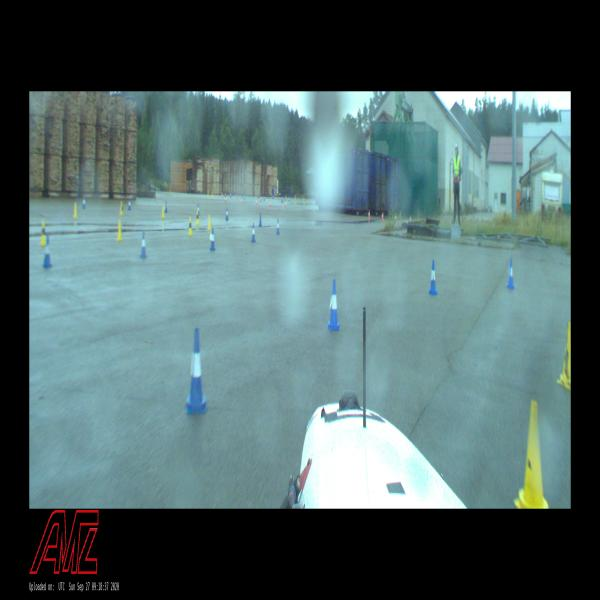blue_cone: (186, 328, 206, 412), (327, 279, 340, 329), (428, 260, 438, 294), (43, 236, 52, 267), (506, 258, 514, 288), (141, 232, 146, 258), (210, 228, 215, 250), (251, 223, 256, 242), (277, 219, 280, 234), (259, 214, 262, 226), (165, 202, 168, 212), (226, 208, 228, 220), (128, 199, 130, 210), (83, 198, 85, 208), (198, 204, 199, 215)
orange_cone: (368, 210, 371, 218), (381, 212, 384, 220)
yellow_cone: (514, 400, 549, 508), (557, 322, 571, 389), (39, 220, 46, 245), (117, 220, 122, 240), (188, 217, 193, 235), (161, 204, 165, 218), (74, 202, 77, 217), (208, 215, 211, 230), (196, 211, 199, 224), (120, 202, 123, 215)
